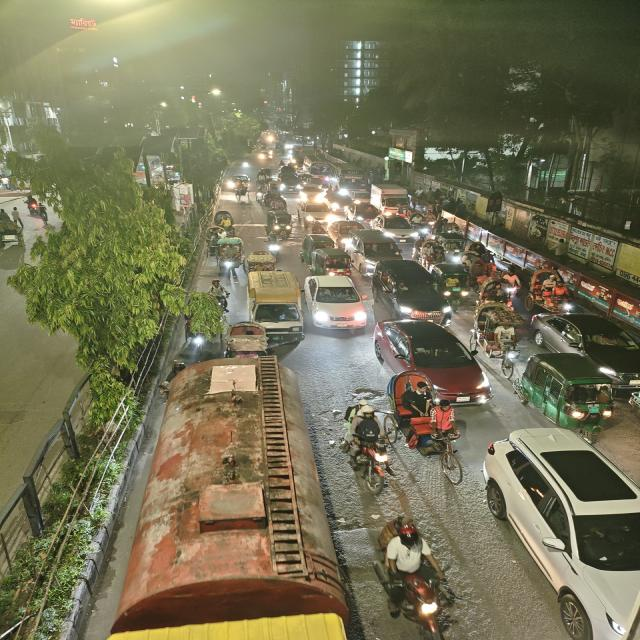bus: (333, 164, 369, 196), (307, 162, 334, 182)
car: (480, 425, 640, 640), (374, 316, 492, 406), (530, 311, 640, 383), (373, 258, 450, 322), (303, 273, 369, 335), (352, 230, 400, 274), (374, 214, 419, 242), (298, 200, 336, 226), (297, 182, 330, 206), (278, 168, 301, 192)
cng: (522, 351, 617, 429), (434, 262, 474, 301), (298, 233, 335, 267), (0, 204, 24, 254), (316, 248, 353, 276), (436, 231, 470, 261), (266, 208, 294, 240), (348, 202, 380, 226), (230, 173, 252, 199), (257, 168, 277, 184)
human_hauler: (248, 273, 308, 344)
motorcycle: (373, 514, 456, 638), (334, 401, 395, 495), (263, 232, 283, 256)
rickshaw: (398, 378, 467, 478), (474, 303, 522, 349), (474, 322, 520, 368), (528, 273, 576, 314), (221, 321, 271, 357), (208, 235, 244, 276), (246, 249, 276, 273), (213, 208, 235, 230)
truck: (125, 365, 342, 640), (370, 180, 415, 214)
